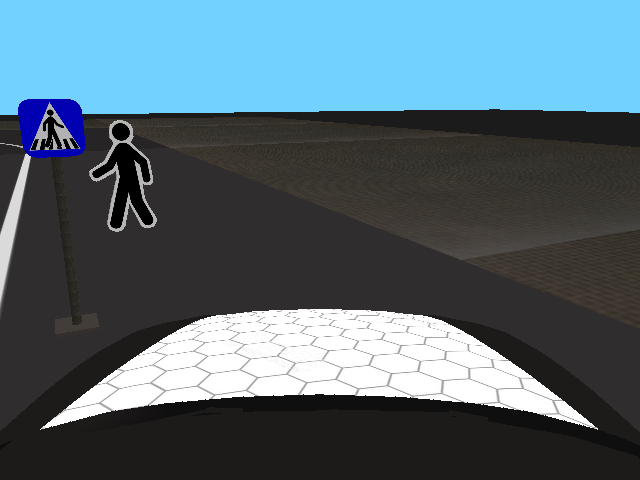pedestrian: (87, 118, 160, 230)
